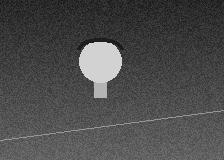no_helmet: (79, 38, 121, 87)
